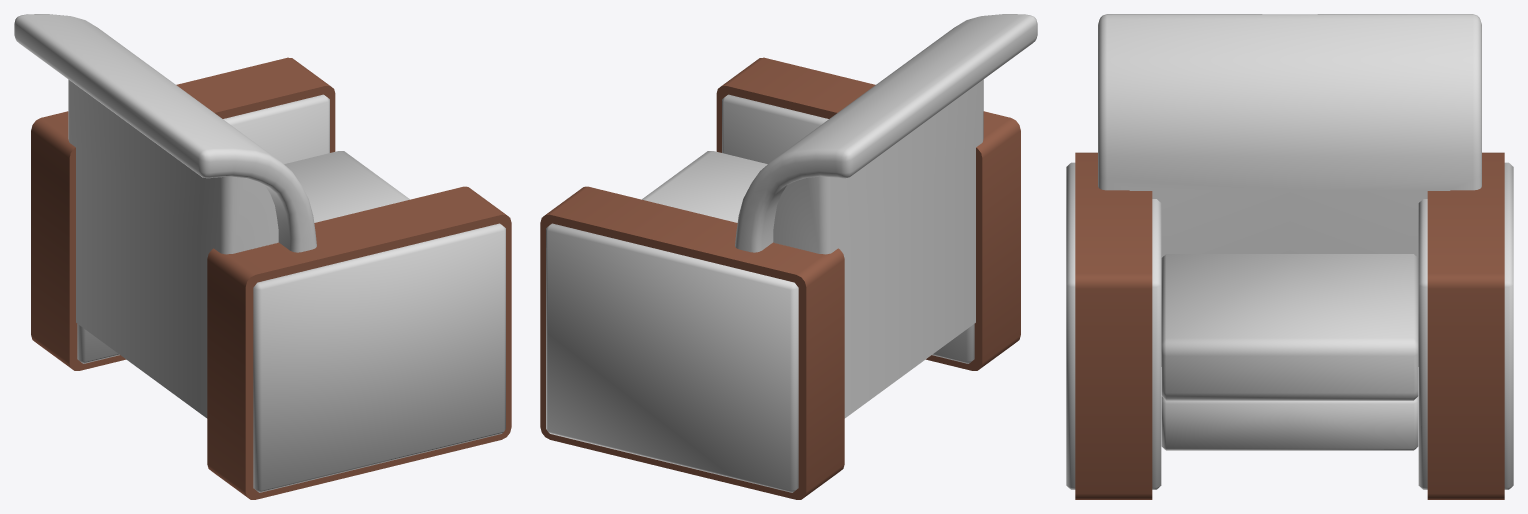
File: CouchB.fbx
3 renders of one model, left to right at view 1: azimuth 30°, elevation 25°; view 2: azimuth 150°, elevation 25°; view 3: azimuth 270°, elevation 25°, orthographic.
Parts seen in each view (by area): view 1: Couch; view 2: Couch; view 3: Couch.
Part boxes in pixels (<box>): Couch: <box>14,14,511,499</box>; Couch: <box>540,14,1037,499</box>; Couch: <box>1066,14,1513,499</box>.
Size of the model in its own units: 0.78 by 0.848 by 0.99.
